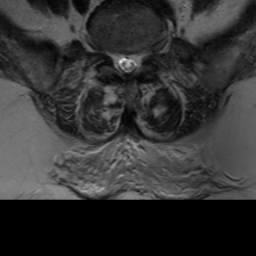CCS_stenosis: (122, 42, 131, 84)
LFS_normal: (142, 38, 152, 65)
LLS_normal: (131, 42, 142, 78)
RFS_stenosis: (102, 36, 112, 65)
RLS_normal: (112, 42, 122, 79)
